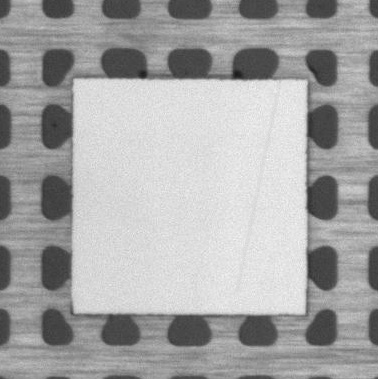DIE_CRACK: (236, 81, 279, 293)
